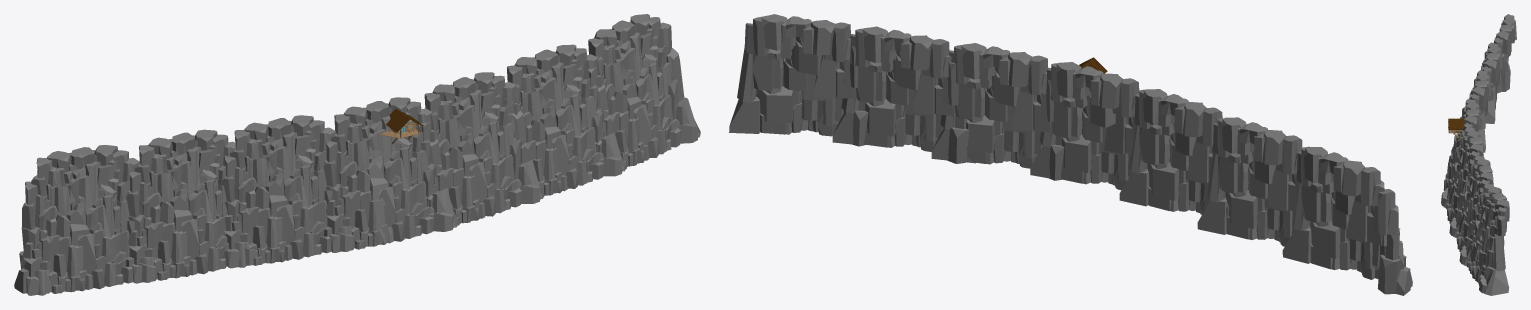
File: Montanha Revamp Com Casa.fbx
3 views of the same model, side by side, from view 1: azimuth 30°, elevation 25°; view 2: azimuth 150°, elevation 25°; view 3: azimuth 270°, elevation 25° (orthographic). The views are drawn at different scales.
Visible parts, largest first — view 1: Cliff_07.008; view 2: Cliff_07.008; view 3: Cliff_07.008.
Part boxes in pixels (x1=…): Cliff_07.008: x1=14, y1=14, x2=700, y2=295; Cliff_07.008: x1=729, y1=14, x2=1412, y2=295; Cliff_07.008: x1=1441, y1=14, x2=1516, y2=295.
Bounding box in the file's own units: 28826 × 4927 × 4348.
